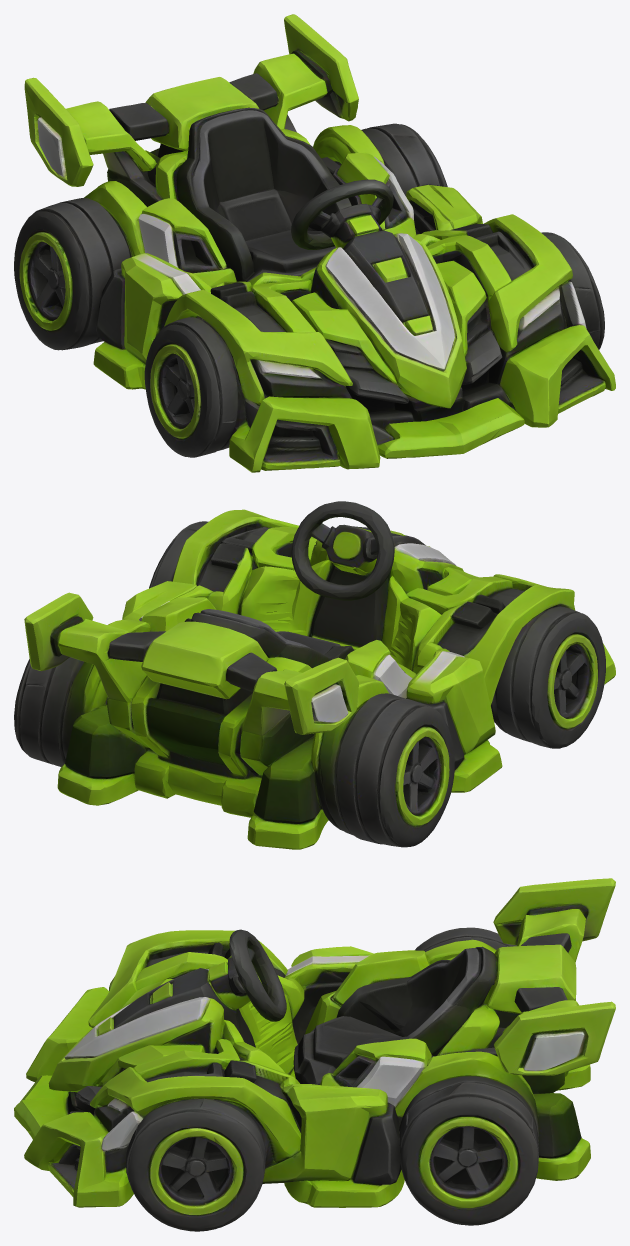
3 views of the same model, one above another, from view 1: azimuth 30°, elevation 25°; view 2: azimuth 150°, elevation 25°; view 3: azimuth 270°, elevation 25° (orthographic). The views are drawn at different scales.
Visible parts, largest first — view 1: circuit_body, wheel_rear_left, wheel_front_left, wheel_rear_right, wheel_front_right; view 2: circuit_body, wheel_rear_left, wheel_front_left, wheel_rear_right, wheel_front_right; view 3: circuit_body, wheel_rear_right, wheel_front_right, wheel_rear_left.
Boxes of the visible parts, x1,y1,x2,y2 form: circuit_body: [24, 14, 615, 472]; wheel_rear_left: [14, 198, 121, 350]; wheel_front_left: [144, 317, 259, 457]; wheel_rear_right: [361, 123, 447, 196]; wheel_front_right: [541, 232, 604, 349]; circuit_body: [21, 501, 615, 849]; wheel_rear_left: [337, 693, 454, 847]; wheel_front_left: [491, 604, 605, 748]; wheel_rear_right: [14, 657, 73, 764]; wheel_front_right: [149, 521, 208, 588]; circuit_body: [14, 878, 615, 1207]; wheel_rear_right: [394, 1076, 538, 1225]; wheel_front_right: [123, 1098, 269, 1231]; wheel_rear_left: [415, 927, 516, 951].
Size of the model in its own units: 2.74 by 1.34 by 3.6.
Materials: 1 (1 with a texture image).
